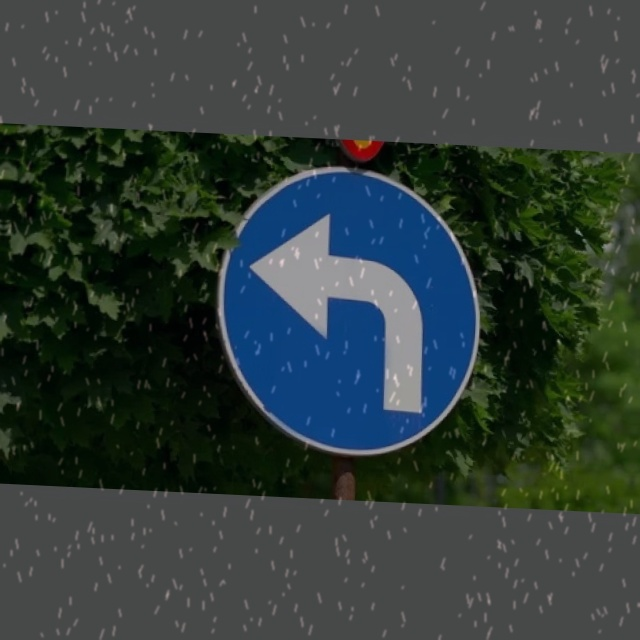Compulsory_Turn_Left_Ahead: (209, 161, 485, 456)
